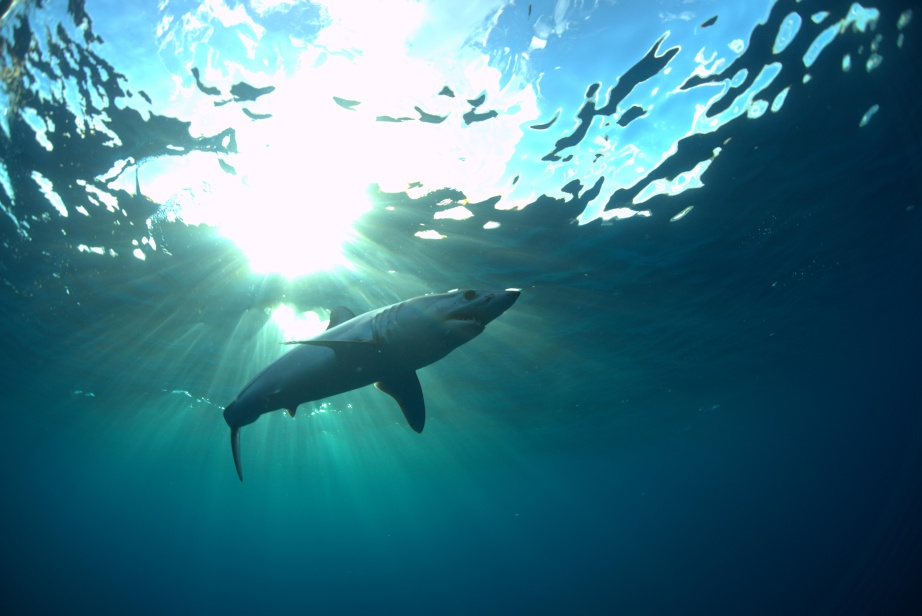Mako: (209, 275, 528, 484)
